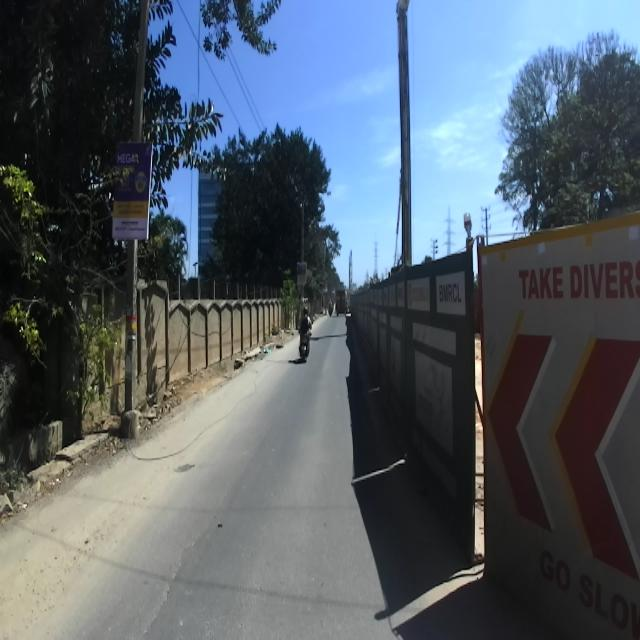barrier ahead at: (396, 262, 484, 504)
electric pole ahead at: (114, 0, 162, 466)
